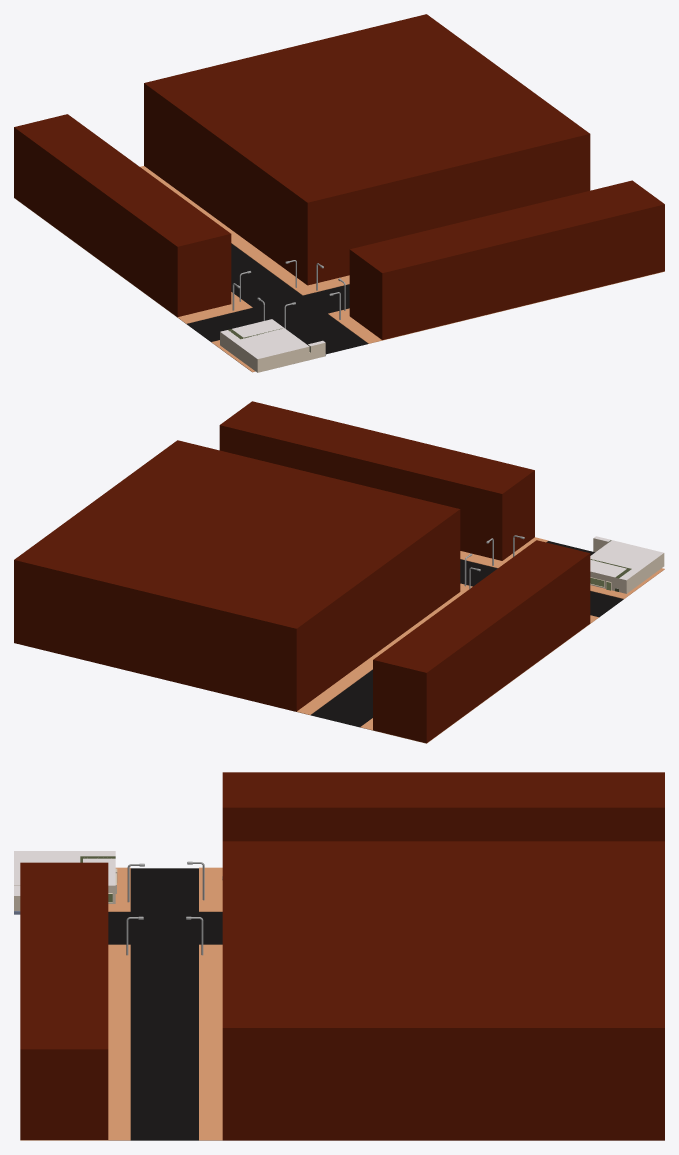
File: level.glb
The picture shows the model from 3 angles, top to bottom: view 1: azimuth 30°, elevation 25°; view 2: azimuth 150°, elevation 25°; view 3: azimuth 270°, elevation 25°; orthographic projection. The views are drawn at different scales.
Visible parts, largest first — view 1: Outside, Room; view 2: Outside, Room; view 3: Outside, Room.
Boxes of the visible parts, box(x1,y1,x2,y2) form: Outside: box(14, 14, 664, 372); Room: box(220, 319, 325, 372); Outside: box(14, 401, 664, 743); Room: box(590, 536, 664, 593); Outside: box(20, 772, 664, 1140); Room: box(14, 851, 117, 910).
Bounding box in the file's own units: 158 × 30.54 × 160.
